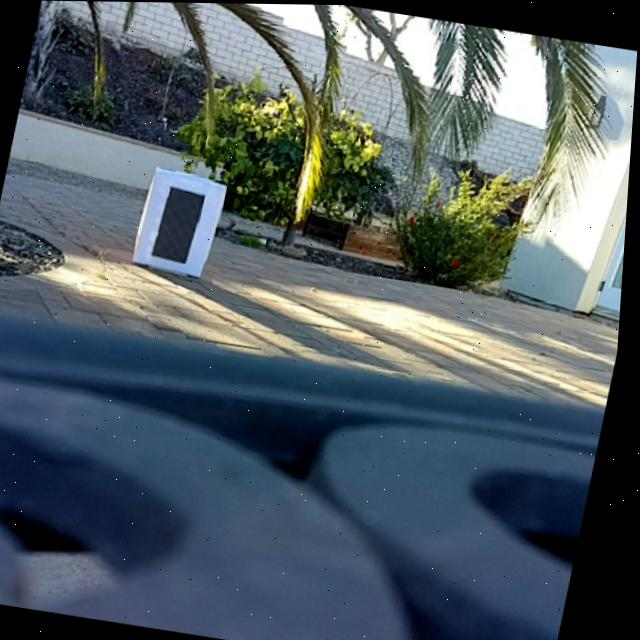led: (155, 186, 209, 265)
